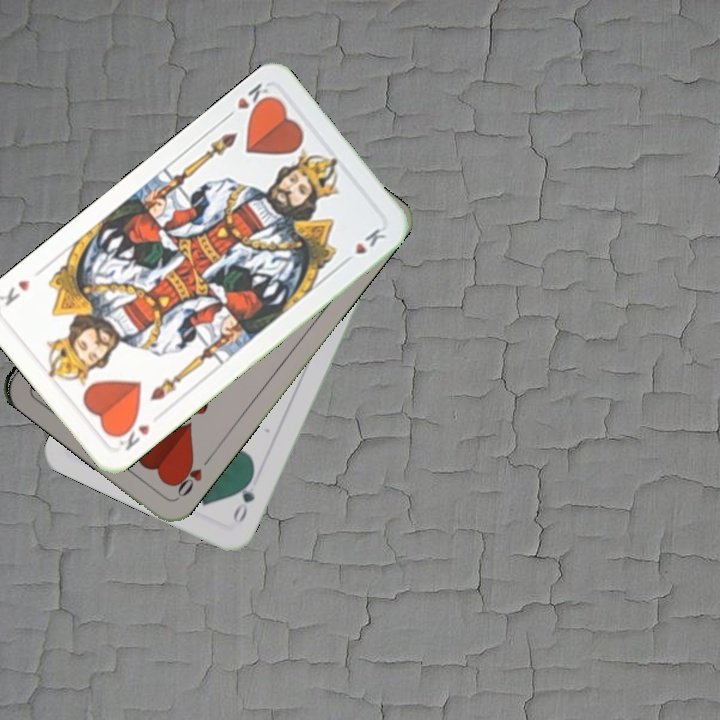GO: (228, 470, 258, 526)
HK: (220, 78, 275, 123), (111, 415, 153, 454)
HO: (168, 452, 215, 502)
